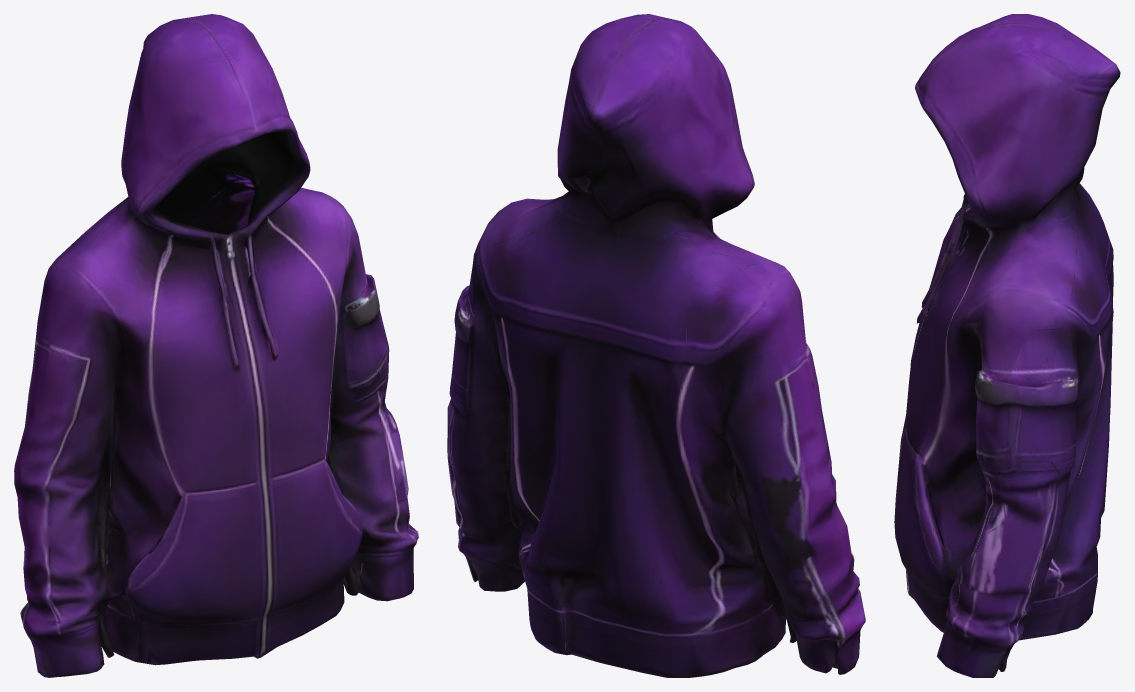
File: hoodie-optimizado.glb
3 views of the same model, side by side, from view 1: azimuth 30°, elevation 25°; view 2: azimuth 150°, elevation 25°; view 3: azimuth 270°, elevation 25° (orthographic). The views are drawn at different scales.
Parts seen in each view (by area): view 1: Mesh1.0; view 2: Mesh1.0; view 3: Mesh1.0.
Part boxes in pixels (box(x1,y1,x2,y2)): Mesh1.0: box(14, 14, 418, 677); Mesh1.0: box(447, 14, 865, 677); Mesh1.0: box(894, 14, 1120, 677).
Size of the model in its own units: 1.36 by 2.01 by 0.7167.
Materials: 1 (1 with a texture image).
